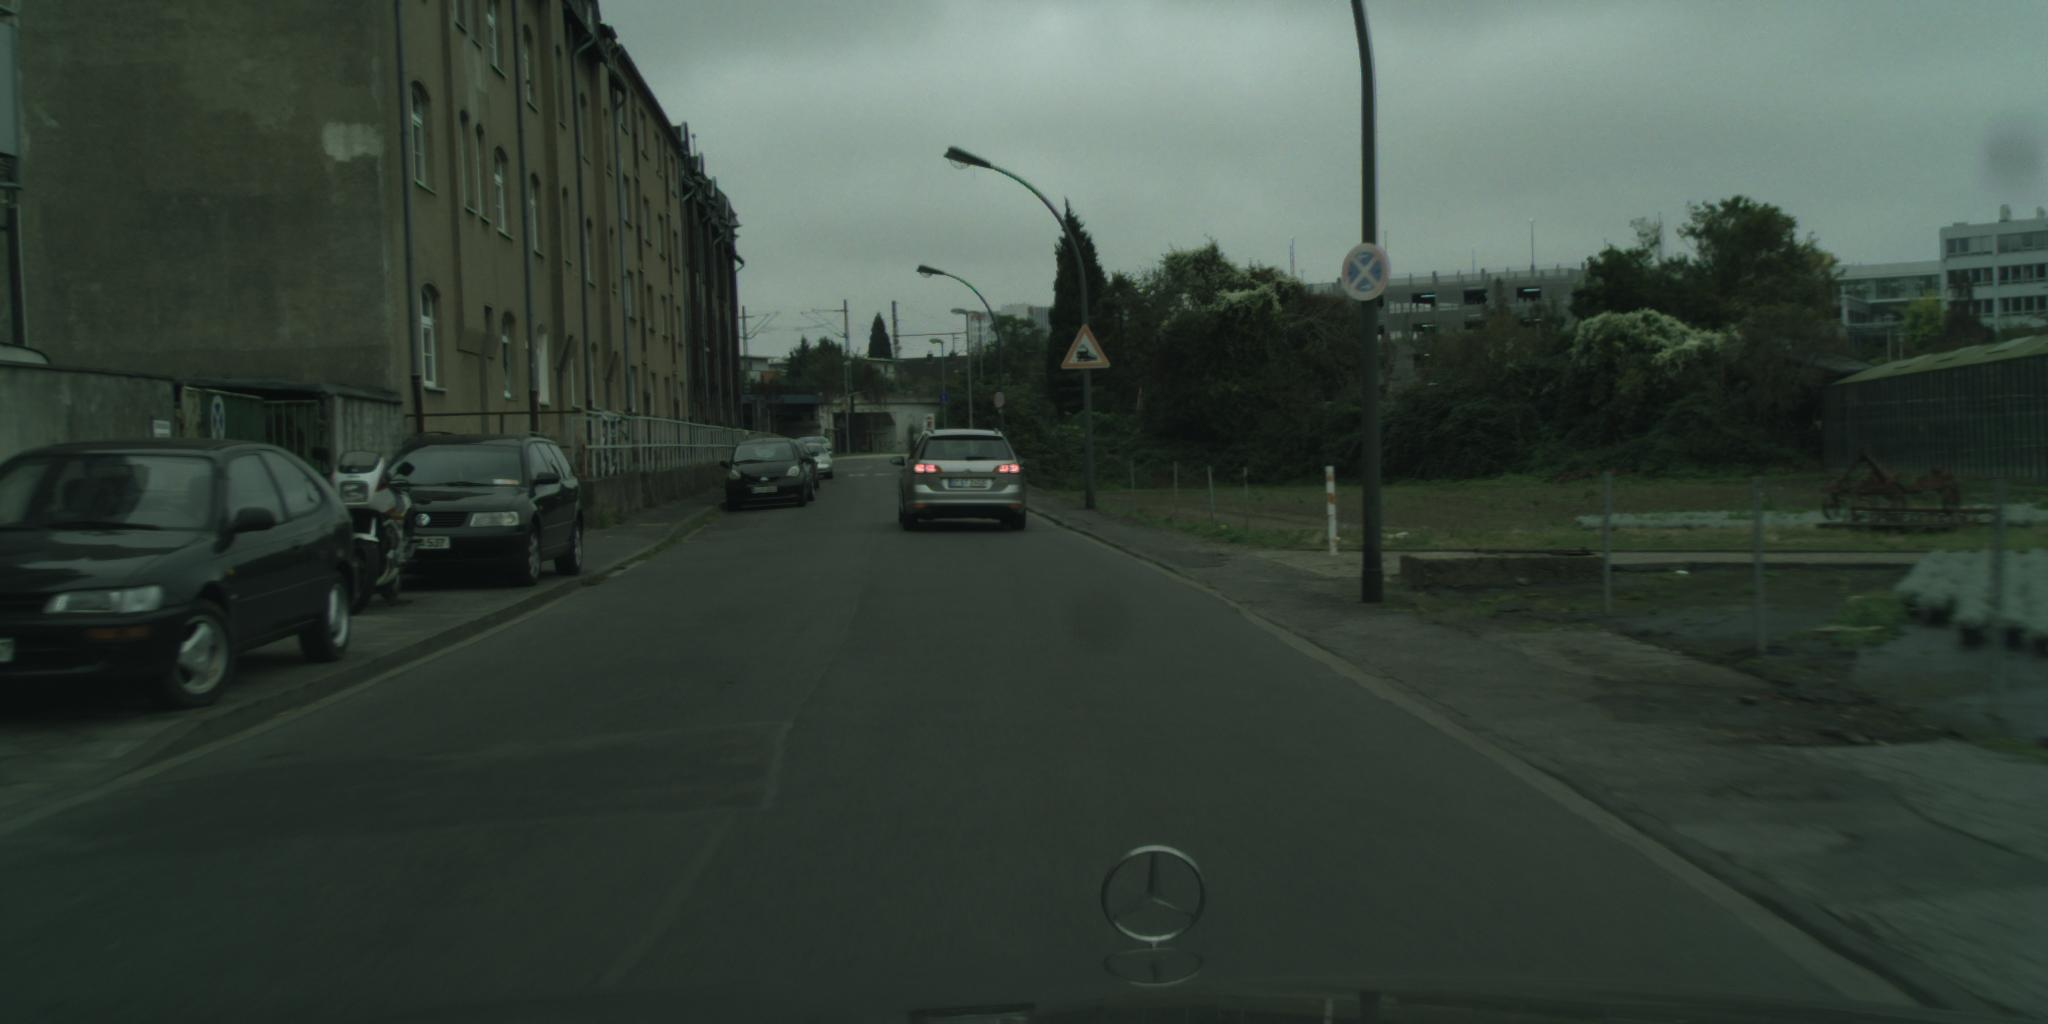car: (1, 438, 357, 712), (368, 434, 585, 589), (891, 430, 1029, 534), (721, 440, 811, 513), (785, 439, 816, 505), (789, 441, 822, 492), (803, 444, 835, 481), (797, 438, 835, 458)
motorcycle: (312, 449, 424, 616)
